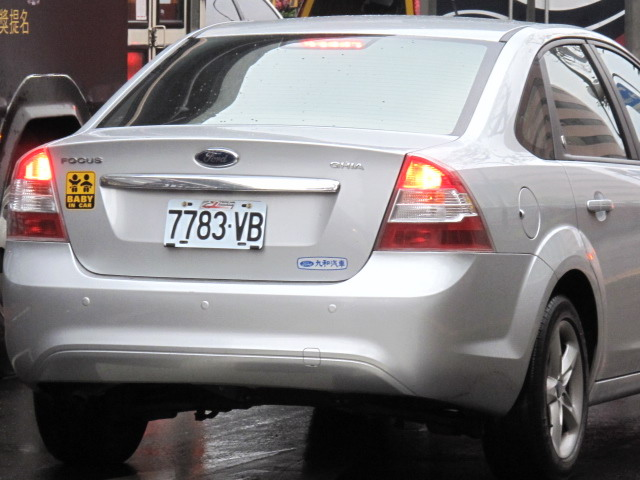plate: (161, 189, 269, 253)
